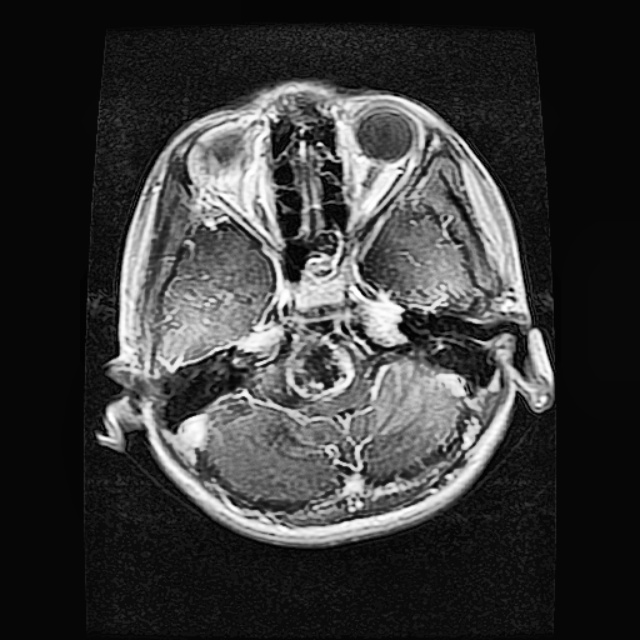Glioma: (287, 333, 354, 403)
